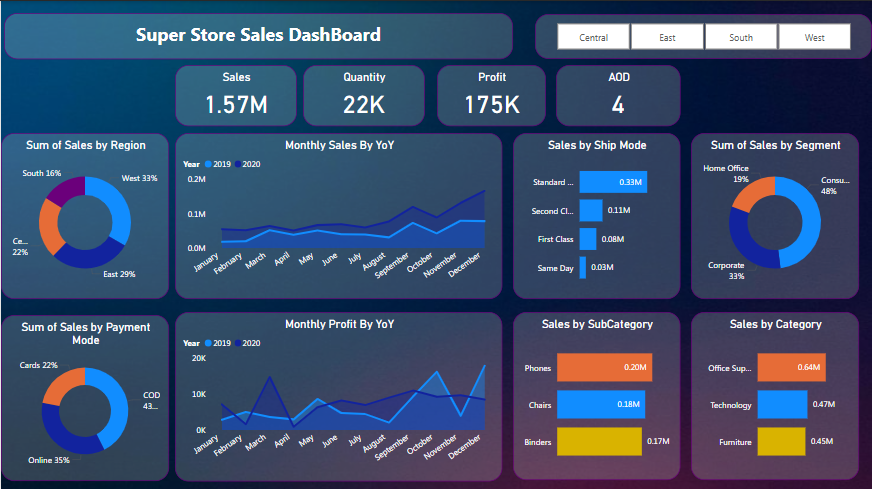

What the dashboard file says about the page in this screenshot:
{"tool":"powerbi","page":{"name":"Page 1","canvas":[1280,720],"ordinal":0},"visuals":[{"type":"clusteredBarChart","title":"Sales by Category","fields":{"Category":["SuperStore_Sales_Dataset.Category"],"Y":["Sum(SuperStore_Sales_Dataset.Sales)"]},"box":[1014.3,457.1,247.1,247.1],"z":0},{"type":"clusteredBarChart","title":"Sales by SubCategory","fields":{"Category":["SuperStore_Sales_Dataset.Sub-Category"],"Y":["Sum(SuperStore_Sales_Dataset.Sales)"]},"box":[752.9,457.1,245.7,247.1],"z":1000},{"type":"clusteredBarChart","title":"Sales by Ship Mode","fields":{"Category":["SuperStore_Sales_Dataset.Ship Mode"],"Y":["Sum(SuperStore_Sales_Dataset.Sales)"]},"box":[752.9,194.3,245.7,244.3],"z":2000},{"type":"areaChart","title":"Monthly Sales By YoY","fields":{"Y":["Sum(SuperStore_Sales_Dataset.Sales)"],"Category":["SuperStore_Sales_Dataset.Order Date.Variation.Date Hierarchy.Month"],"Series":["SuperStore_Sales_Dataset.Order Date.Variation.Date Hierarchy.Year"]},"box":[255.7,194.3,481.4,244.3],"z":3000},{"type":"areaChart","title":"Monthly Profit By YoY","fields":{"Category":["SuperStore_Sales_Dataset.Order Date.Variation.Date Hierarchy.Month"],"Series":["SuperStore_Sales_Dataset.Order Date.Variation.Date Hierarchy.Year"],"Y":["Sum(SuperStore_Sales_Dataset.Profit)"]},"box":[255.7,457.1,481.4,248.6],"z":4000},{"type":"donutChart","fields":{"Category":["SuperStore_Sales_Dataset.Segment"],"Y":["Sum(SuperStore_Sales_Dataset.Sales)"]},"box":[1014.3,194.3,247.1,244.3],"z":5000},{"type":"donutChart","fields":{"Category":["SuperStore_Sales_Dataset.Region"],"Y":["Sum(SuperStore_Sales_Dataset.Sales)"]},"box":[0,194.3,247.1,244.3],"z":6000},{"type":"donutChart","fields":{"Y":["Sum(SuperStore_Sales_Dataset.Sales)"],"Category":["SuperStore_Sales_Dataset.Payment Mode"]},"box":[0,461.4,247.1,244.3],"z":6002},{"type":"slicer","fields":{"Values":["SuperStore_Sales_Dataset.Region"]},"box":[784.3,17.1,495.7,67.1],"z":6003},{"type":"textbox","box":[0,40,748.6,67.1],"z":6004},{"type":"card","title":"Sales","fields":{"Values":["Sum(SuperStore_Sales_Dataset.Sales)"]},"box":[255.7,94.3,178.6,90],"z":6005},{"type":"card","title":"Quantity","fields":{"Values":["Sum(SuperStore_Sales_Dataset.Quantity)"]},"box":[444.3,94.3,178.6,90],"z":6006},{"type":"card","title":"Profit","fields":{"Values":["Sum(SuperStore_Sales_Dataset.Profit)"]},"box":[640,94.3,160,90],"z":6007},{"type":"card","title":"AOD","fields":{"Values":["Avg(SuperStore_Sales_Dataset.AvgDel)"]},"box":[815.7,94.3,182.9,90],"z":6008}]}

Visuals, with their boxes in screenshot pixels (x1, y1, x2, y2), scaled from the page's 1280x720 canvas onto the 872x489 screenshot:
"Sales by Category" clusteredBarChart: <bbox>691, 310, 859, 478</bbox>
"Sales by SubCategory" clusteredBarChart: <bbox>513, 310, 680, 478</bbox>
"Sales by Ship Mode" clusteredBarChart: <bbox>513, 132, 680, 298</bbox>
"Monthly Sales By YoY" areaChart: <bbox>174, 132, 502, 298</bbox>
"Monthly Profit By YoY" areaChart: <bbox>174, 310, 502, 479</bbox>
donutChart - SuperStore_Sales_Dataset.Segment x Sum(SuperStore_Sales_Dataset.Sales): <bbox>691, 132, 859, 298</bbox>
donutChart - SuperStore_Sales_Dataset.Region x Sum(SuperStore_Sales_Dataset.Sales): <bbox>0, 132, 168, 298</bbox>
donutChart - Sum(SuperStore_Sales_Dataset.Sales) x SuperStore_Sales_Dataset.Payment Mode: <bbox>0, 313, 168, 479</bbox>
slicer - SuperStore_Sales_Dataset.Region: <bbox>534, 12, 871, 57</bbox>
textbox: <bbox>0, 27, 510, 73</bbox>
"Sales" card: <bbox>174, 64, 296, 125</bbox>
"Quantity" card: <bbox>303, 64, 424, 125</bbox>
"Profit" card: <bbox>436, 64, 545, 125</bbox>
"AOD" card: <bbox>556, 64, 680, 125</bbox>
